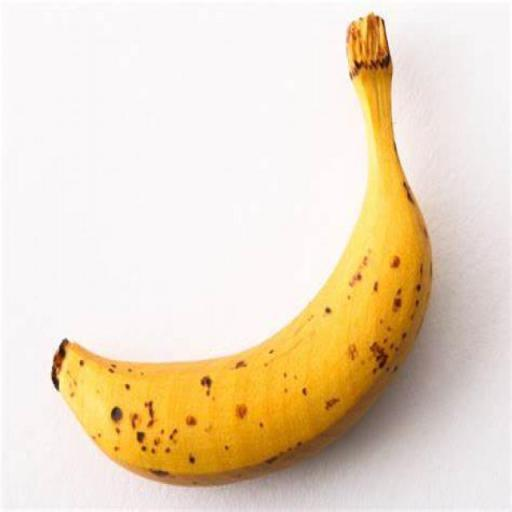fruit: (51, 15, 431, 482)
